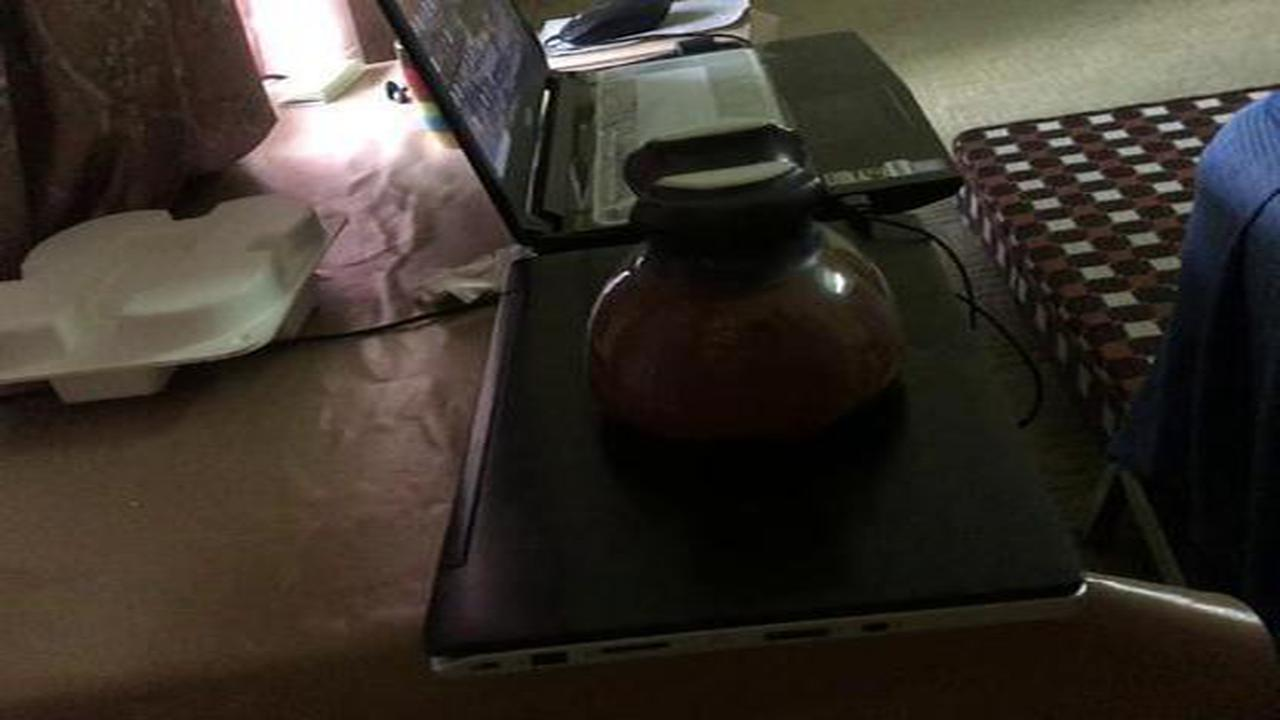insulator_pin: (554, 122, 939, 468)
